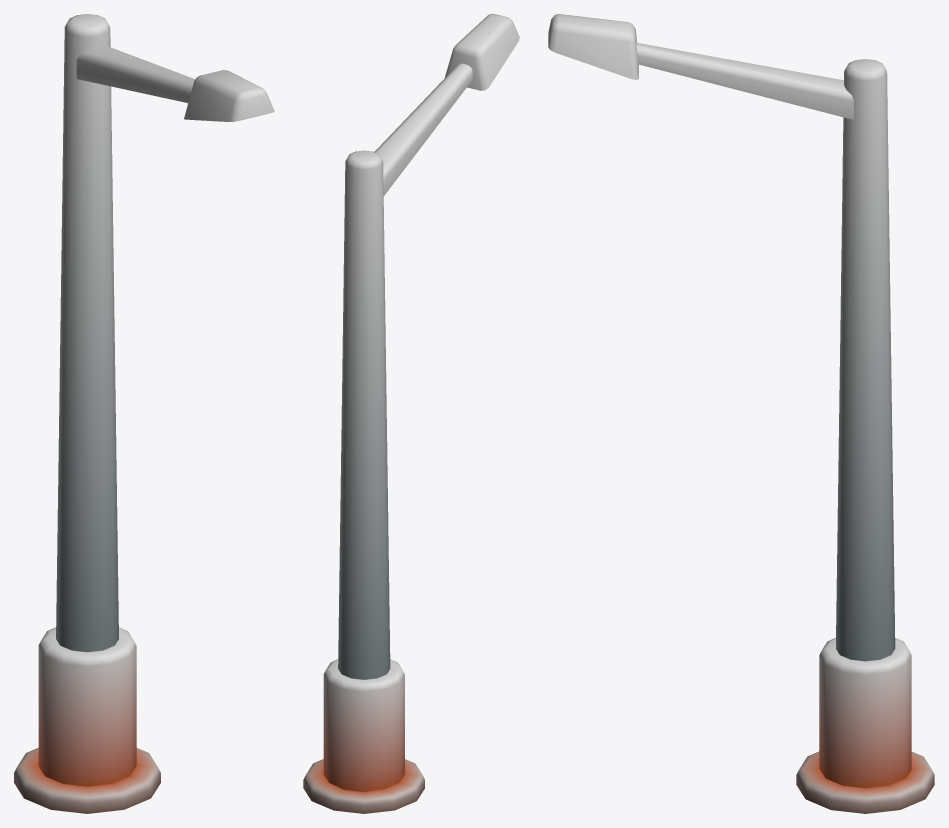
Rendered from NF_Env_Light.fbx.
3 renders of one model, left to right at view 1: azimuth 30°, elevation 25°; view 2: azimuth 150°, elevation 25°; view 3: azimuth 270°, elevation 25°, orthographic. The views are drawn at different scales.
Parts seen in each view (by area): view 1: Light 1; view 2: Light 1; view 3: Light 1.
Part boxes in pixels (bbox=[...]): Light 1: bbox=[14, 14, 274, 813]; Light 1: bbox=[303, 14, 519, 813]; Light 1: bbox=[548, 14, 934, 813].
Bounding box in the file's own units: 0.782 × 4.78 × 2.18.
